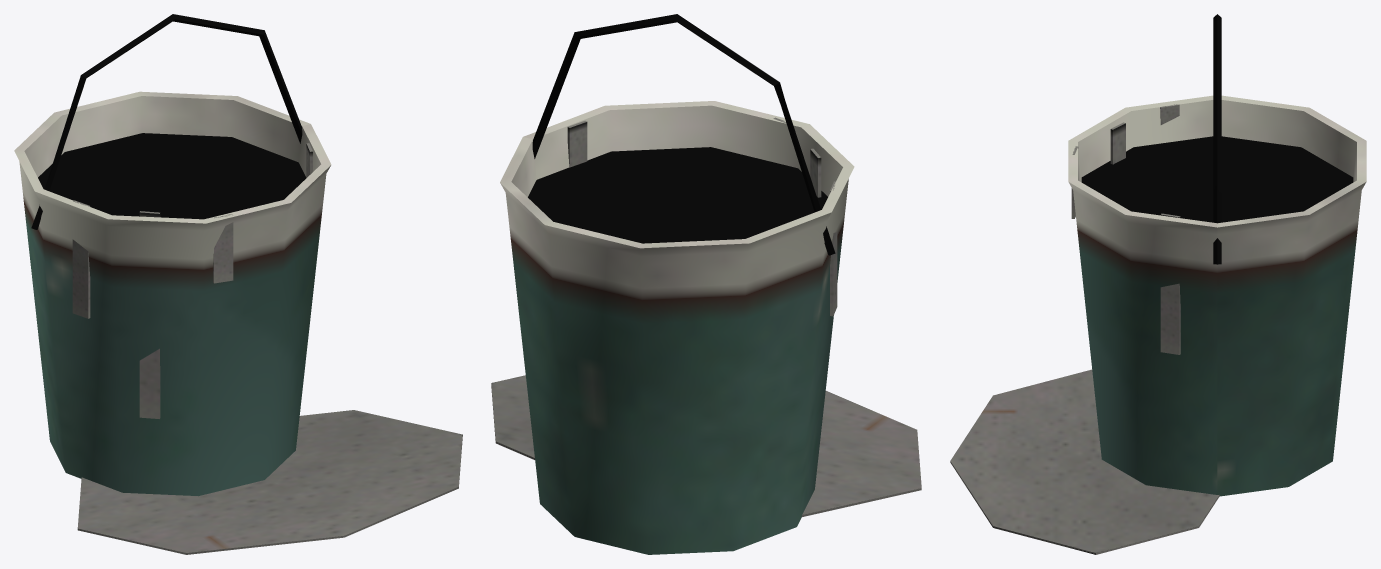
The model's file is bucket_blood.fbx.
3 views of the same model, side by side, from view 1: azimuth 30°, elevation 25°; view 2: azimuth 150°, elevation 25°; view 3: azimuth 270°, elevation 25° (orthographic). The views are drawn at different scales.
Visible parts, largest first — view 1: bucket_blood; view 2: bucket_blood; view 3: bucket_blood.
Boxes of the visible parts, x1,y1,x2,y2 form: bucket_blood: (14,14,462,554); bucket_blood: (491,14,921,554); bucket_blood: (950,14,1366,554).
Size of the model in its own units: 0.432 by 0.464 by 0.4114.
